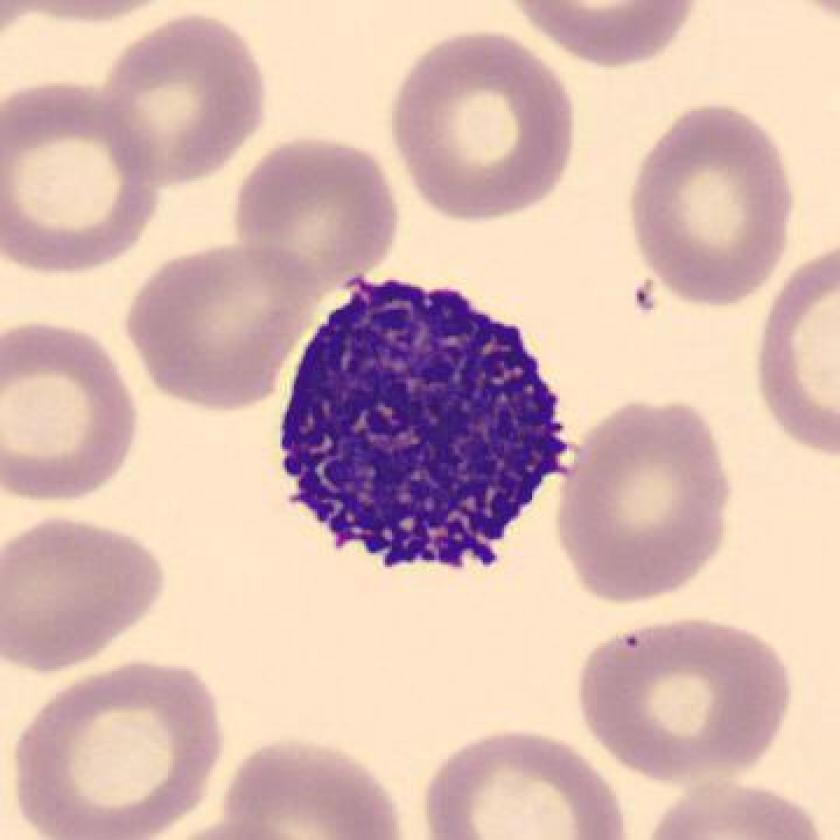basophil: (274, 279, 570, 587)
